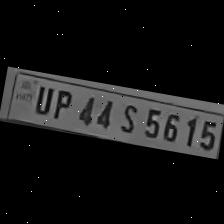1: (178, 110, 199, 146)
4: (71, 89, 98, 125), (90, 93, 116, 128)
5: (193, 114, 221, 152), (138, 103, 162, 139)
6: (158, 107, 182, 144)
P: (46, 84, 74, 120)
S: (113, 98, 140, 134)
U: (28, 80, 54, 116)
